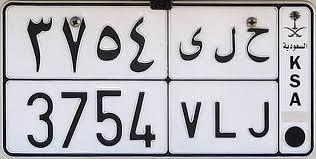3: (26, 16, 55, 149)
4: (130, 16, 157, 148)
5: (95, 25, 123, 147)
7: (61, 16, 89, 149)
J: (246, 27, 270, 139)
L: (214, 27, 237, 138)
V: (178, 26, 203, 138)
